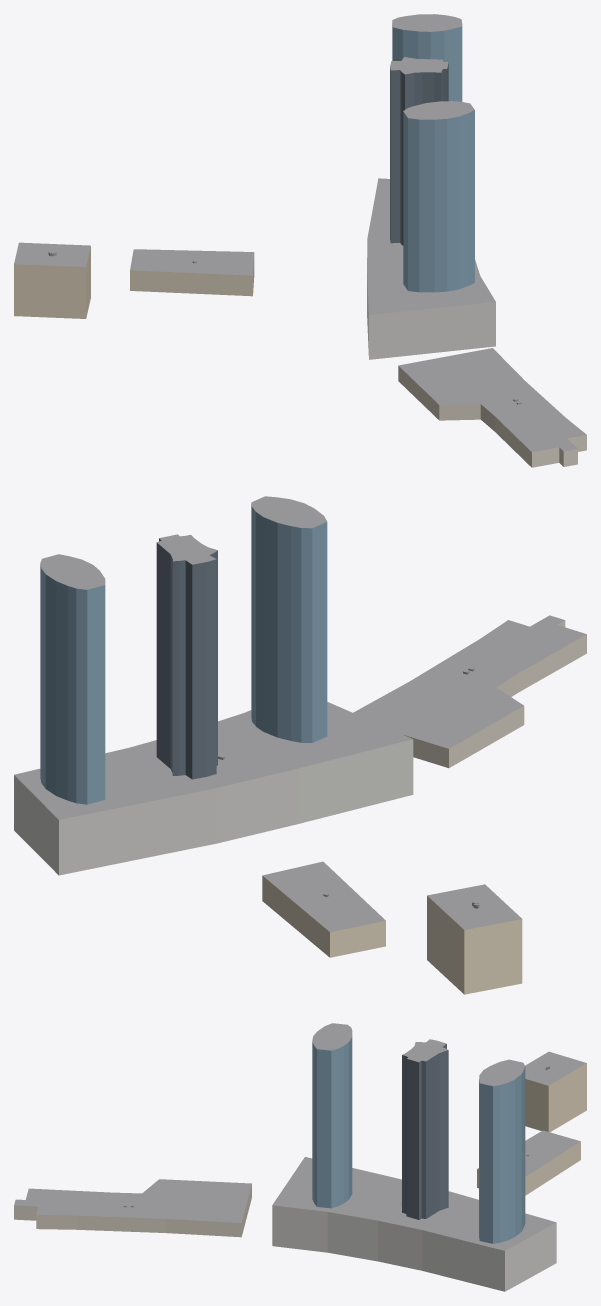
File: building_-4_1.glb
3 views of the same model, one above another, from view 1: azimuth 30°, elevation 25°; view 2: azimuth 150°, elevation 25°; view 3: azimuth 270°, elevation 25° (orthographic). The views are drawn at different scales.
Visible parts, largest first — view 1: roof, glass_blue, sandstone, concrete_light, glass_dark, concrete_warm; view 2: roof, glass_blue, concrete_light, glass_dark, sandstone, concrete_warm; view 3: roof, glass_blue, concrete_light, glass_dark, sandstone, concrete_warm.
Part boxes in pixels (bbox=[...]): roof: bbox=[14, 14, 586, 451]; glass_blue: bbox=[392, 23, 474, 292]; sandstone: bbox=[14, 247, 254, 318]; concrete_light: bbox=[367, 273, 495, 359]; glass_dark: bbox=[390, 62, 448, 245]; concrete_warm: bbox=[398, 366, 586, 467]; roof: bbox=[14, 496, 586, 931]; glass_blue: bbox=[40, 504, 327, 804]; concrete_light: bbox=[14, 739, 413, 875]; glass_dark: bbox=[156, 538, 217, 779]; sandstone: bbox=[262, 876, 522, 994]; concrete_warm: bbox=[404, 620, 586, 768]; roof: bbox=[14, 1023, 586, 1250]; glass_blue: bbox=[312, 1037, 525, 1243]; concrete_light: bbox=[272, 1205, 556, 1291]; glass_dark: bbox=[402, 1044, 448, 1219]; sandstone: bbox=[477, 1063, 586, 1195]; concrete_warm: bbox=[14, 1184, 251, 1237].
Bounding box in the file's own units: 279 × 134 × 351.
